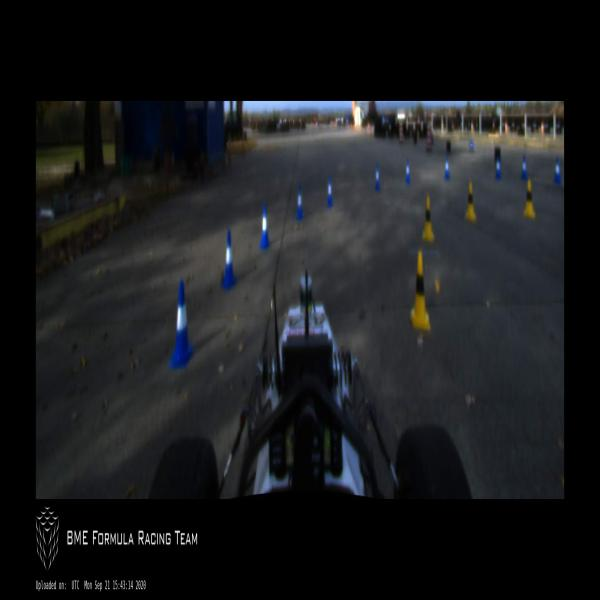blue_cone: (169, 280, 195, 369), (222, 231, 236, 290), (260, 205, 269, 249), (296, 184, 303, 220), (326, 174, 332, 208), (520, 154, 528, 179), (495, 155, 502, 180), (555, 158, 561, 184), (375, 166, 381, 190), (444, 157, 450, 180), (405, 159, 410, 184)
yellow_cone: (411, 252, 430, 332), (422, 194, 434, 244), (524, 179, 536, 220), (466, 182, 476, 224)
